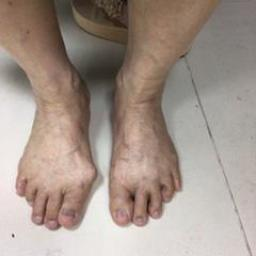Dorsal View -Both Feet-: (10, 60, 195, 234)
